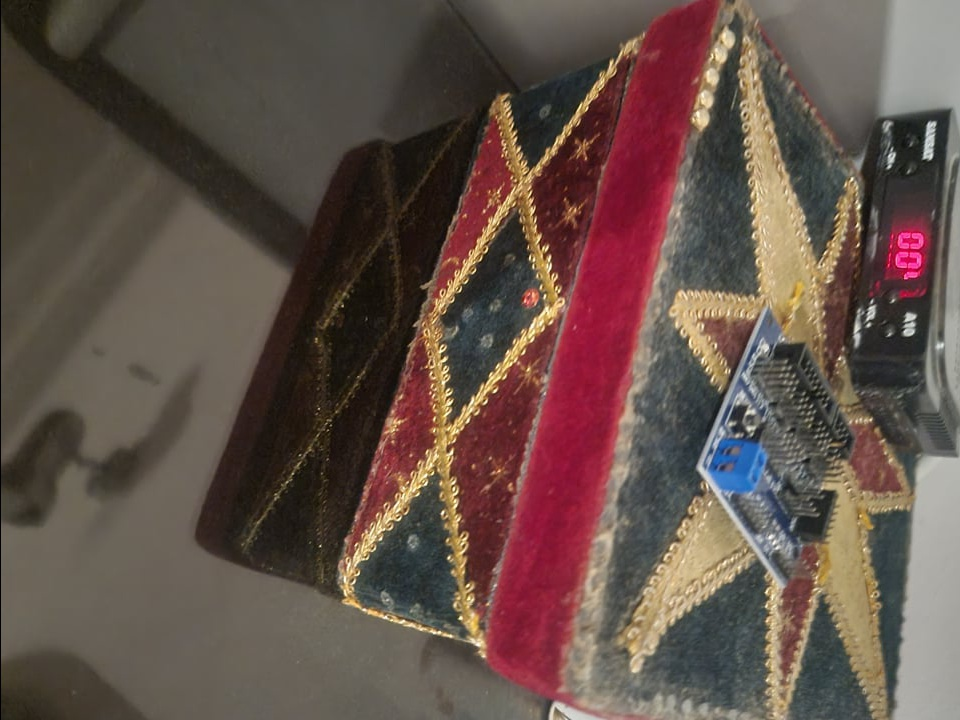5V EXPANSION: (693, 304, 853, 586)
